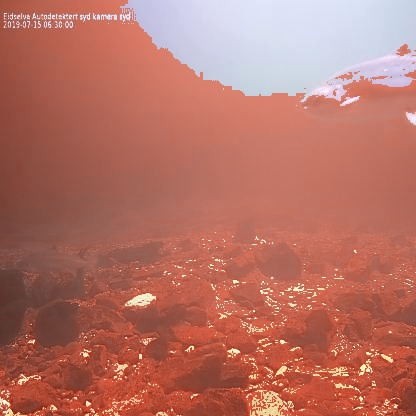salmon: (297, 39, 416, 134), (12, 240, 101, 286)
